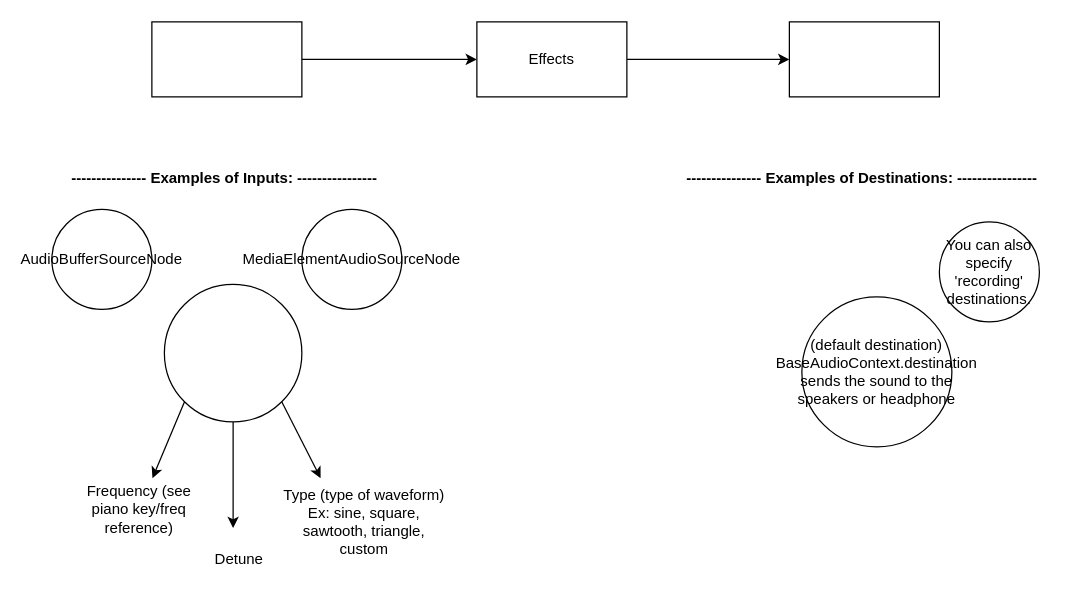
This 1068x600 diagram has some shape labels left out. The centre of each missing label's shape, as x and y in pixels:
"Destination" belongs at point 863,59.
"Input" belongs at point 226,59.
"OscillatorNode (Mathematically created Sound)" belongs at point 232,352.
